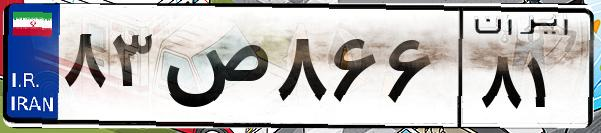1: (525, 38, 570, 115)
3: (110, 28, 158, 98)
6: (385, 28, 445, 110), (330, 28, 385, 110)
8: (270, 28, 330, 110), (57, 26, 110, 100), (475, 38, 525, 113)
ص: (158, 20, 270, 120)
